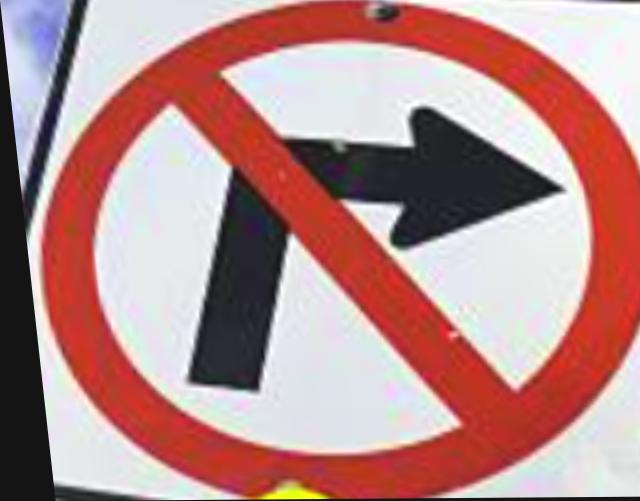not_turn_right: (14, 6, 640, 501)
